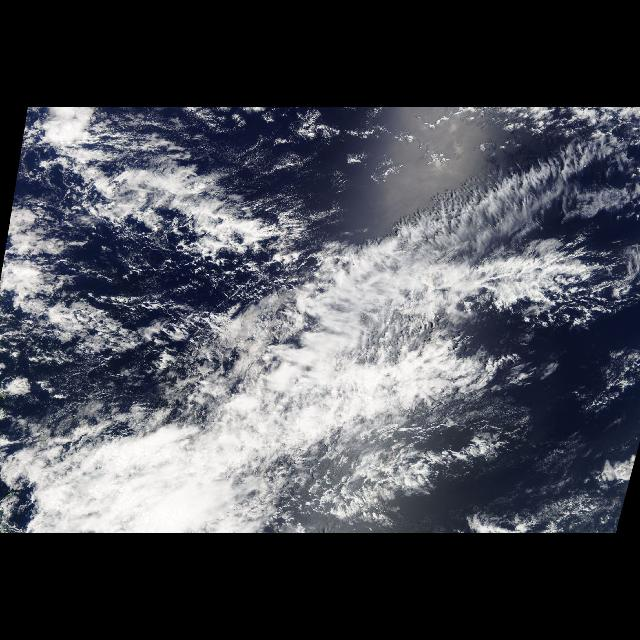Fish: (5, 147, 627, 533)
Sugar: (514, 433, 596, 532), (238, 148, 372, 188)
